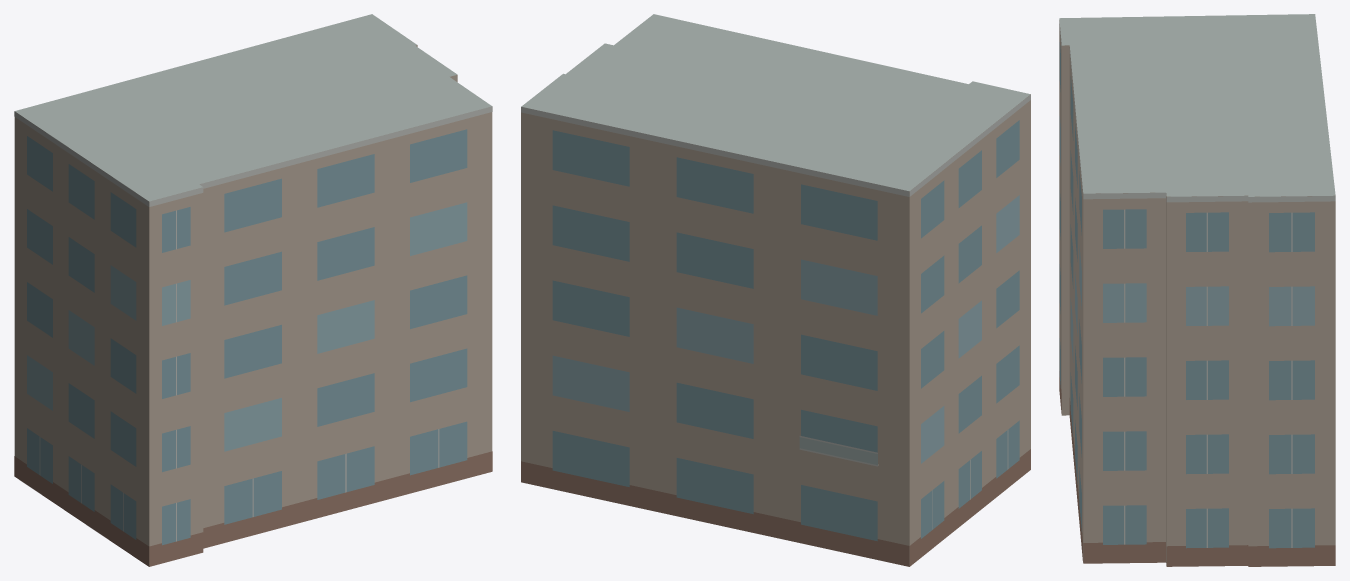
The model's file is survey-upis-32663832.glb.
3 renders of one model, left to right at view 1: azimuth 30°, elevation 25°; view 2: azimuth 150°, elevation 25°; view 3: azimuth 270°, elevation 25°, orthographic. The views are drawn at different scales.
Visible parts, largest first — view 1: survey-upis-32663832.tmp; view 2: survey-upis-32663832.tmp; view 3: survey-upis-32663832.tmp.
Boxes of the visible parts, box(x1,y1,x2,y2) form: survey-upis-32663832.tmp: box(14, 14, 492, 566); survey-upis-32663832.tmp: box(521, 14, 1030, 566); survey-upis-32663832.tmp: box(1059, 14, 1335, 566).
Size of the model in its own units: 16.91 by 15.95 by 10.81.
